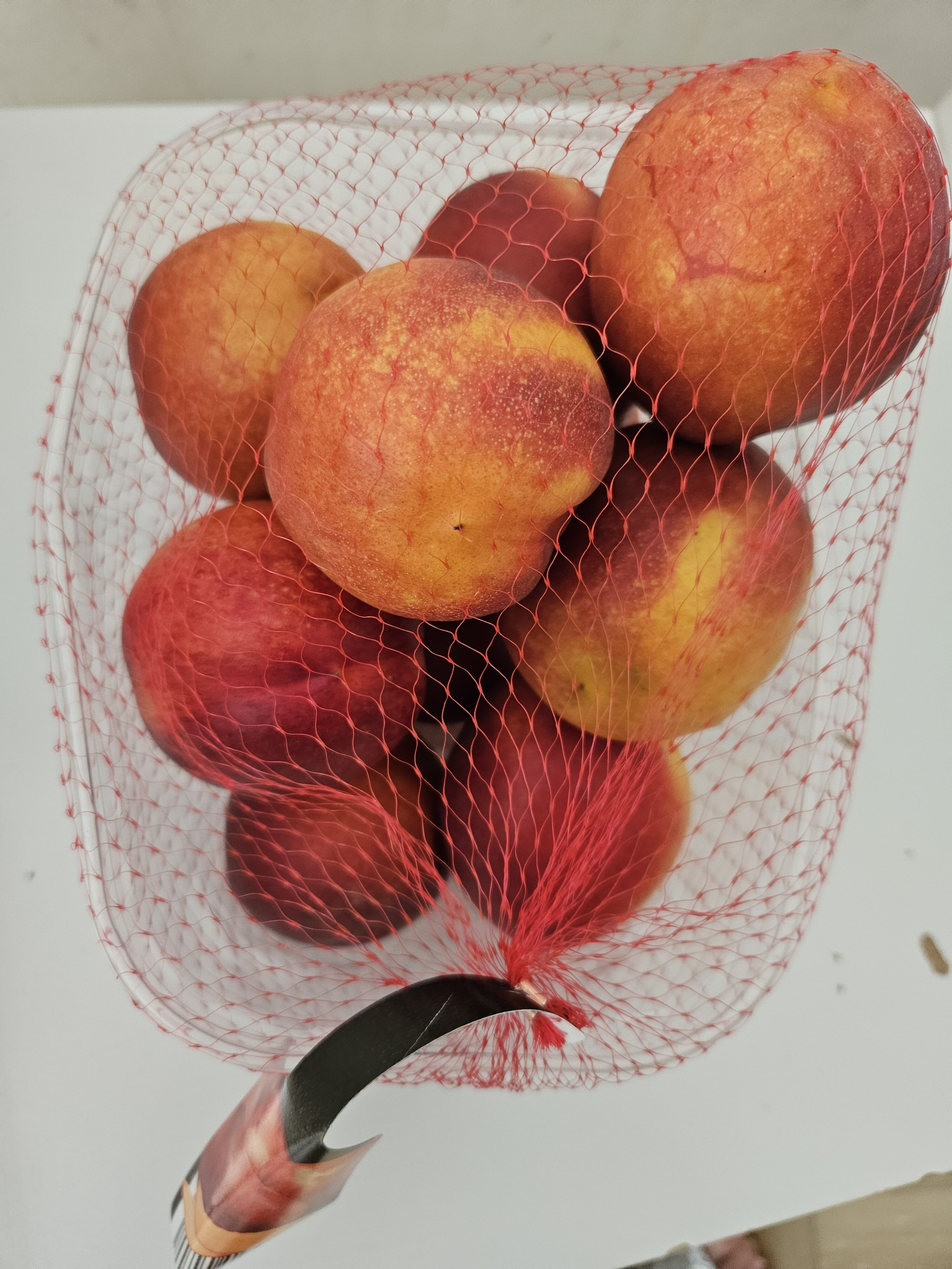Nektarinen: (48, 63, 904, 1206)
